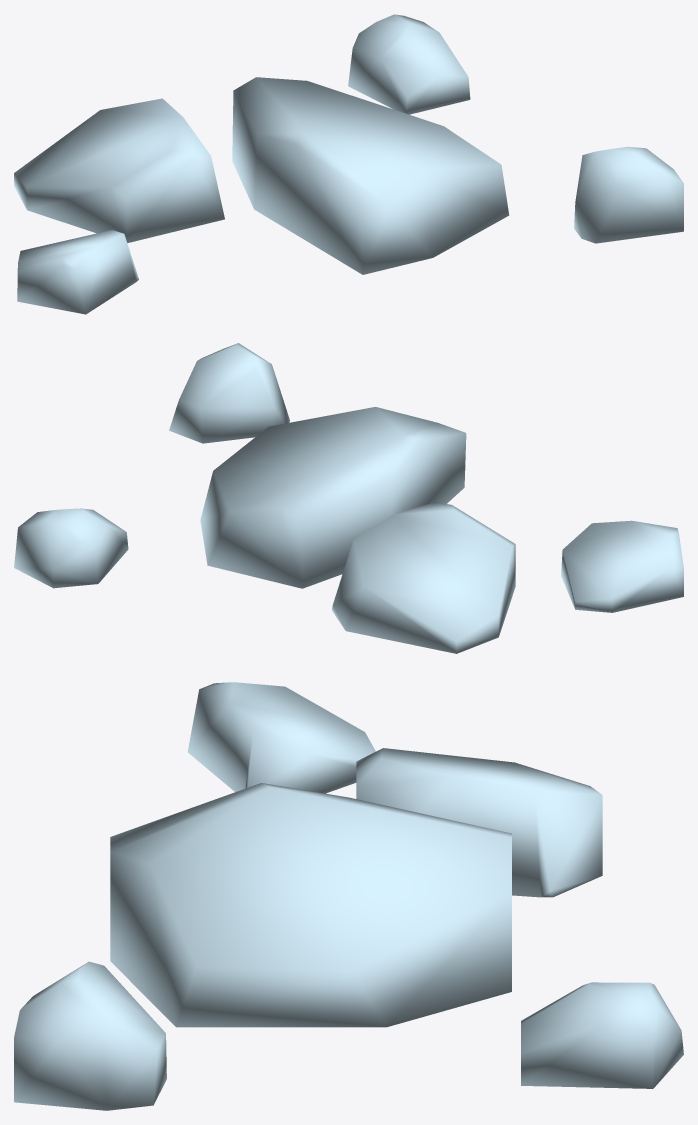
The model's file is Stone_Medium.fbx.
3 renders of one model, top to bottom at view 1: azimuth 30°, elevation 25°; view 2: azimuth 150°, elevation 25°; view 3: azimuth 270°, elevation 25°, orthographic. The views are drawn at different scales.
Visible parts, largest first — view 1: stone_medium; view 2: stone_medium; view 3: stone_medium.
Boxes of the visible parts, bbox=[...] form: stone_medium: bbox=[14, 14, 683, 314]; stone_medium: bbox=[14, 343, 683, 653]; stone_medium: bbox=[14, 682, 683, 1110].
Bounding box in the file's own units: 273 × 43.07 × 202.
